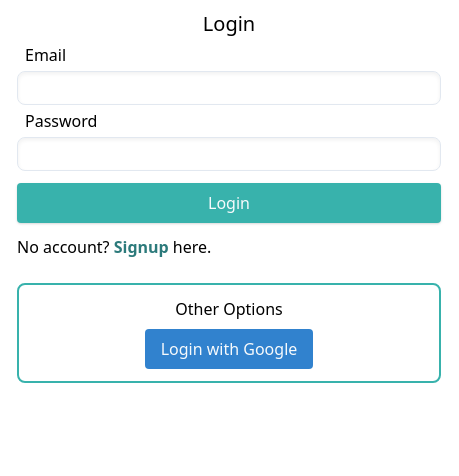
Test: <Login /> › shows error message when login gets error
Click the button "Login with Google" at (229, 349), box top-left (145, 329), bottom-right (313, 369)
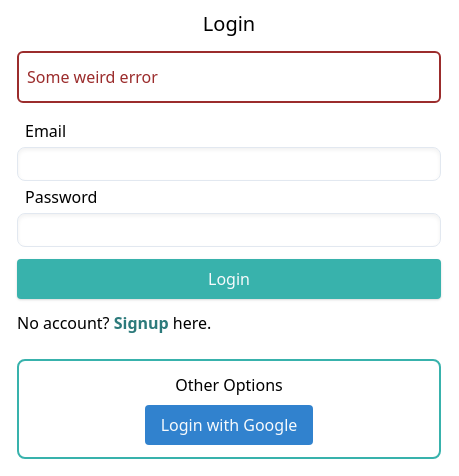
Check: the text "Some weird error" is shown, box top-left (27, 66), bottom-right (158, 88)
